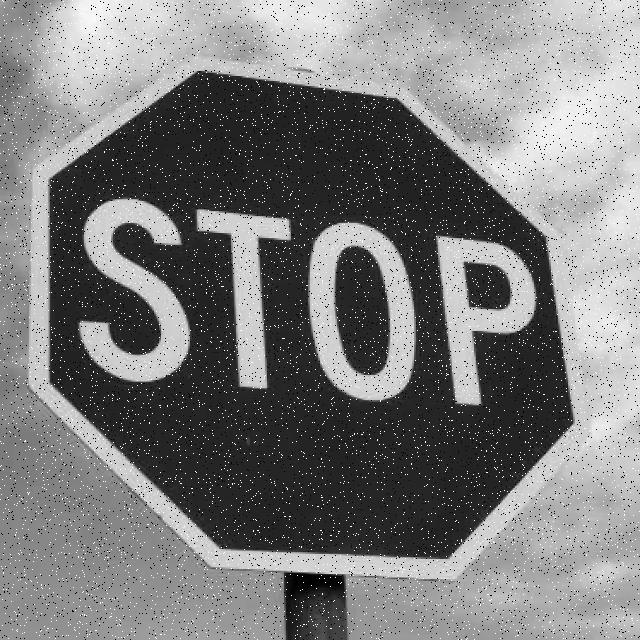stop: (33, 59, 589, 583)
